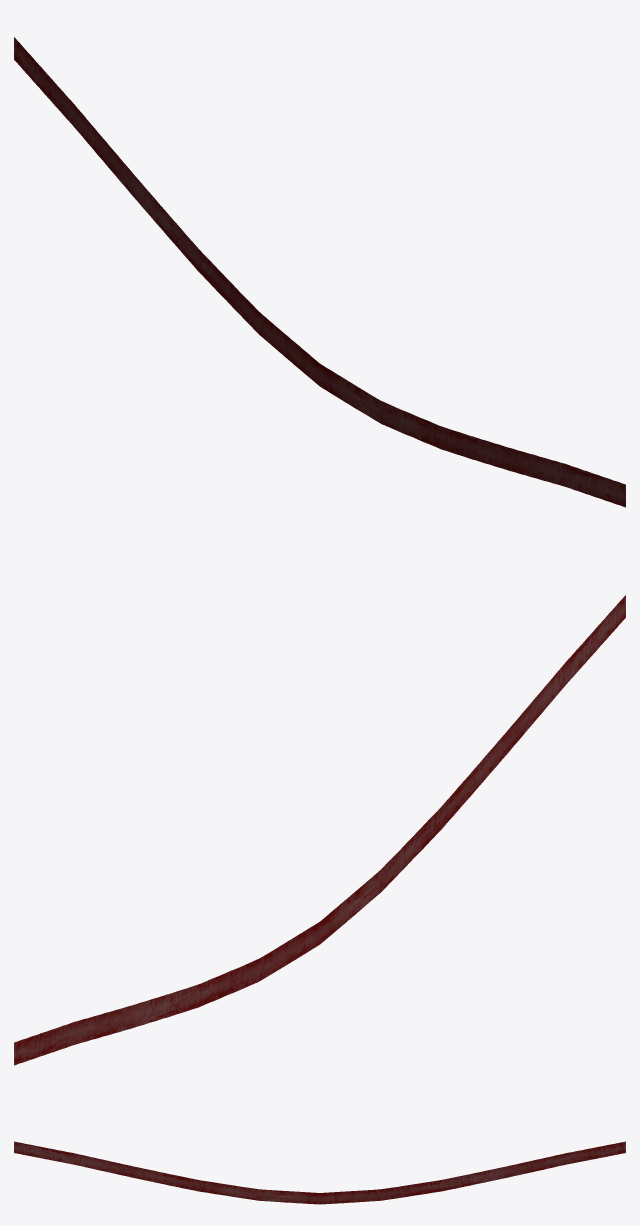
The model's file is RedWire.fbx.
The picture shows the model from 3 angles, top to bottom: view 1: azimuth 30°, elevation 25°; view 2: azimuth 150°, elevation 25°; view 3: azimuth 270°, elevation 25°; orthographic projection. The views are drawn at different scales.
Visible parts, largest first — view 1: Red Wire; view 2: Red Wire; view 3: Red Wire.
Part boxes in pixels (x1,y1,x2,y2): Red Wire: (14, 37, 625, 507); Red Wire: (14, 595, 625, 1065); Red Wire: (14, 1141, 625, 1204).
Bounding box in the file's own units: 2.36e-06 × 73.42 × 500.
